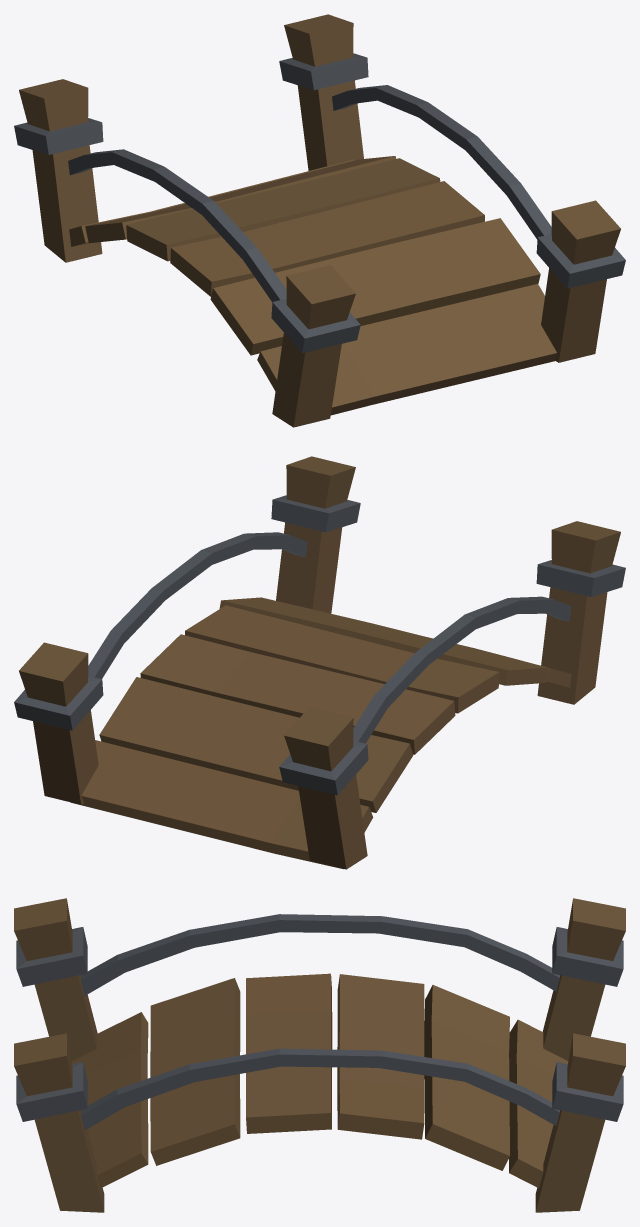
File: Bridge_2.fbx
3 renders of one model, top to bottom at view 1: azimuth 30°, elevation 25°; view 2: azimuth 150°, elevation 25°; view 3: azimuth 270°, elevation 25°, orthographic. The views are drawn at different scales.
Parts seen in each view (by area): view 1: Bridge_2; view 2: Bridge_2; view 3: Bridge_2.
Boxes of the visible parts, bbox=[...] form: Bridge_2: bbox=[14, 14, 625, 427]; Bridge_2: bbox=[14, 456, 625, 869]; Bridge_2: bbox=[14, 898, 625, 1212].
Size of the model in its own units: 296 by 137 by 466.
